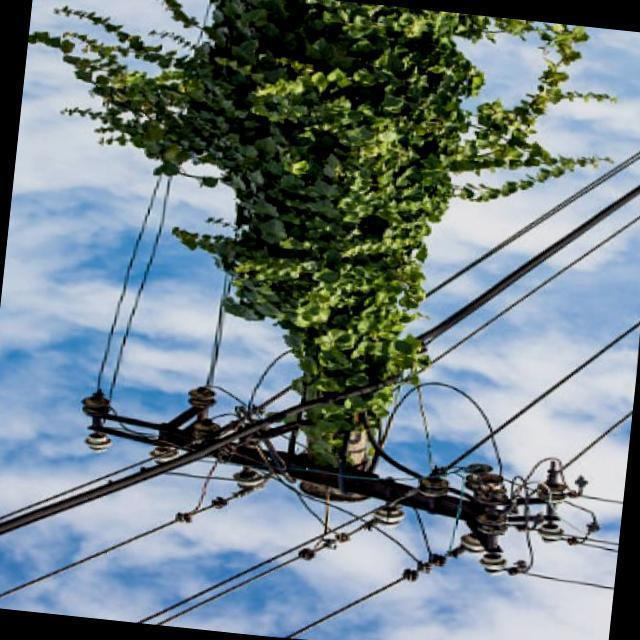critical vegetation: (69, 7, 589, 554)
